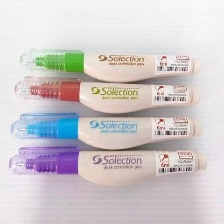correction_fluid: (5, 142, 210, 188), (7, 109, 204, 153), (12, 73, 202, 116), (17, 45, 203, 85)
